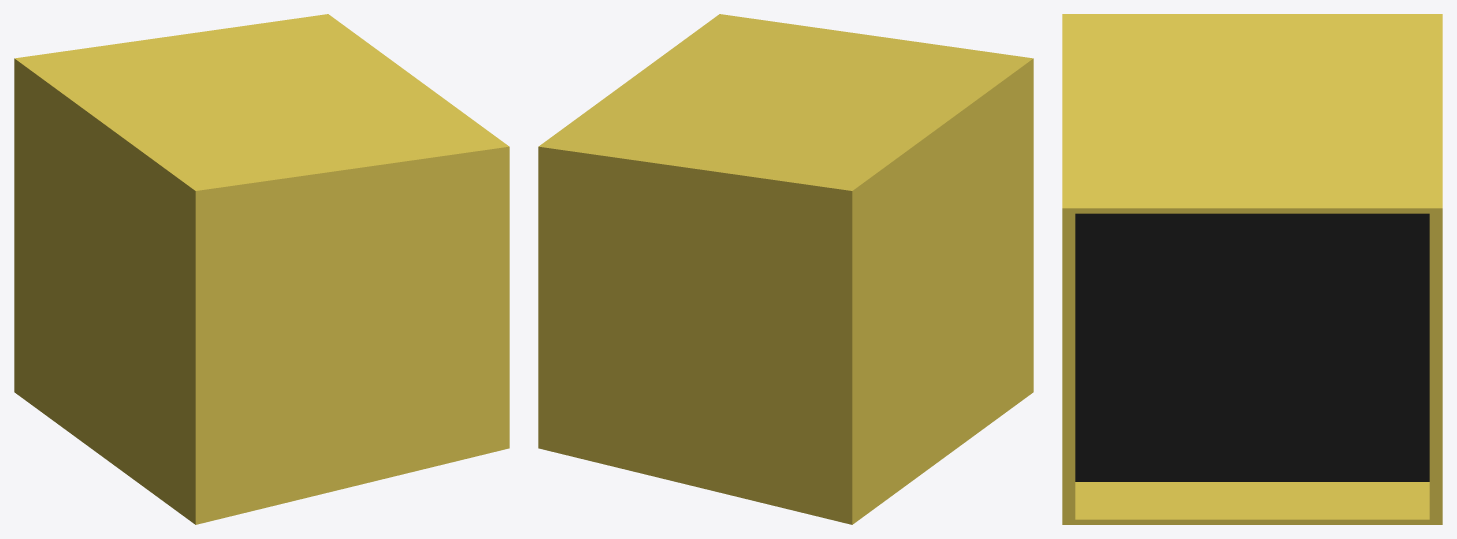
File: ReceptorComida.fbx
The picture shows the model from 3 angles, left to right: view 1: azimuth 30°, elevation 25°; view 2: azimuth 150°, elevation 25°; view 3: azimuth 270°, elevation 25°; orthographic projection. The views are drawn at different scales.
Visible parts, largest first — view 1: Cube.002; view 2: Cube.002; view 3: Cube.002.
Boxes of the visible parts, x1,y1,x2,y2 form: Cube.002: (14,14,509,524); Cube.002: (538,14,1033,524); Cube.002: (1062,14,1442,524).
Bounding box in the file's own units: 0.4898 × 0.4978 × 0.4898.
